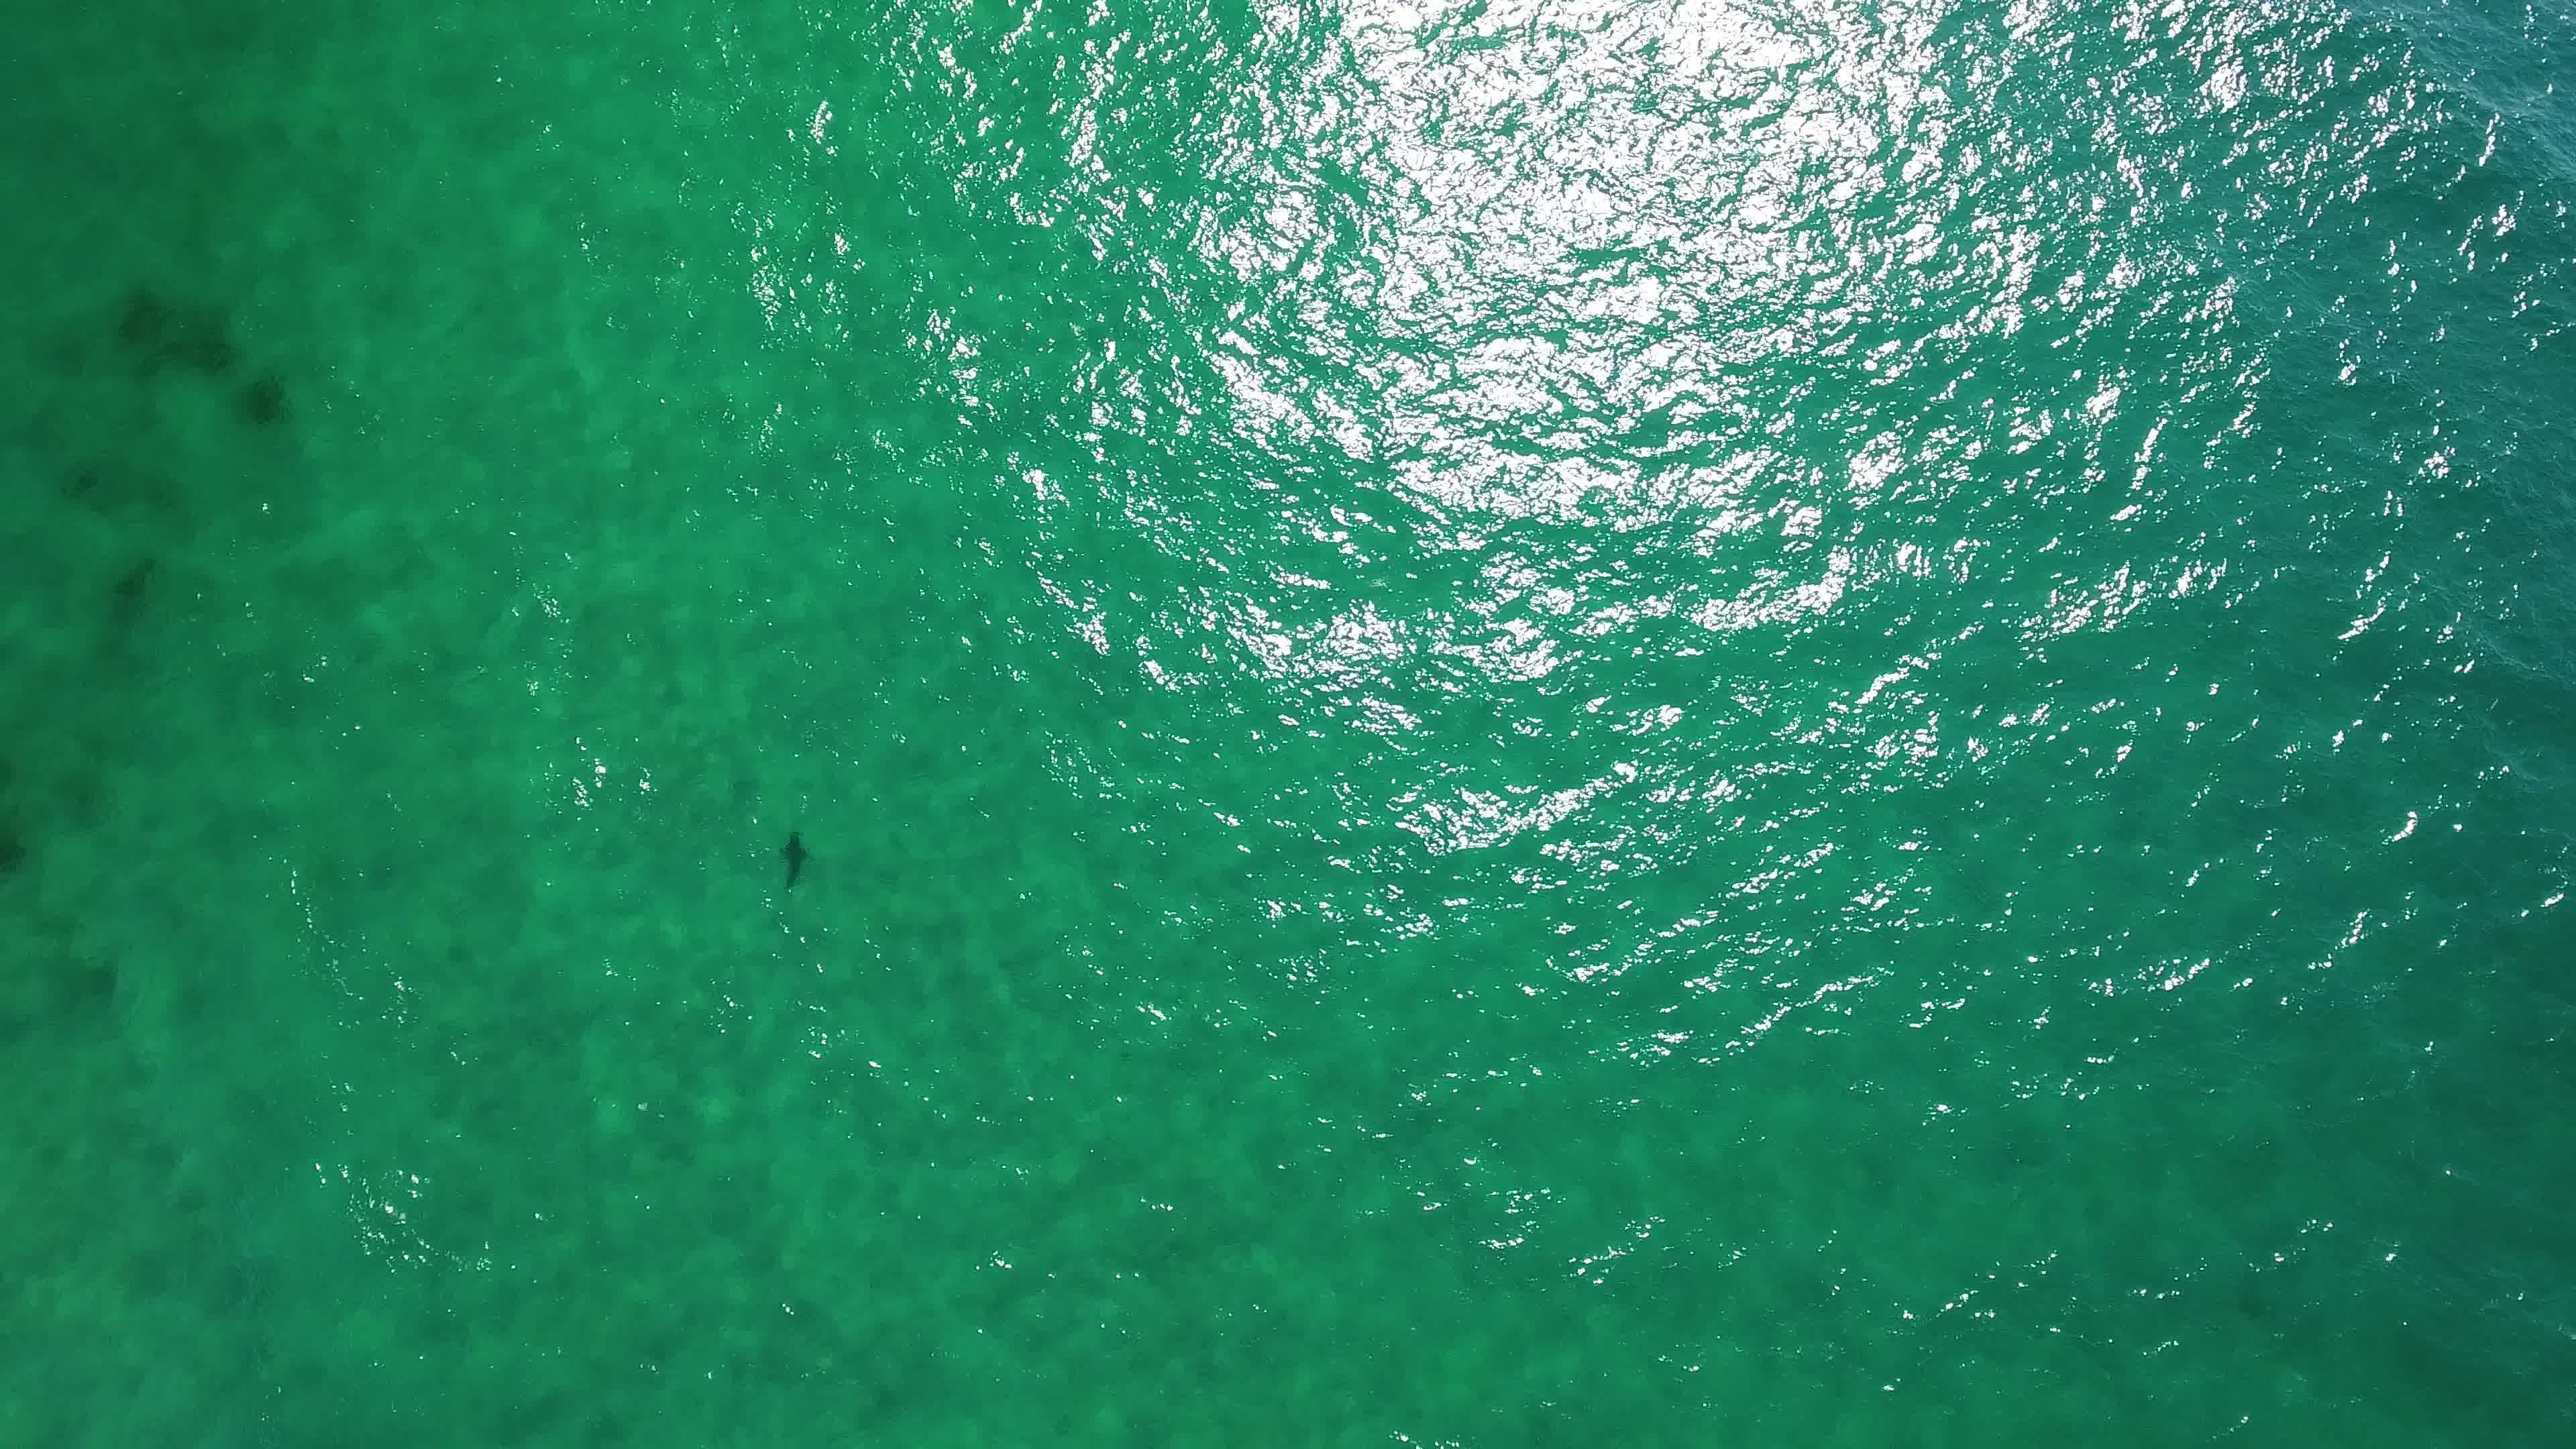shark: (771, 826, 821, 899)
